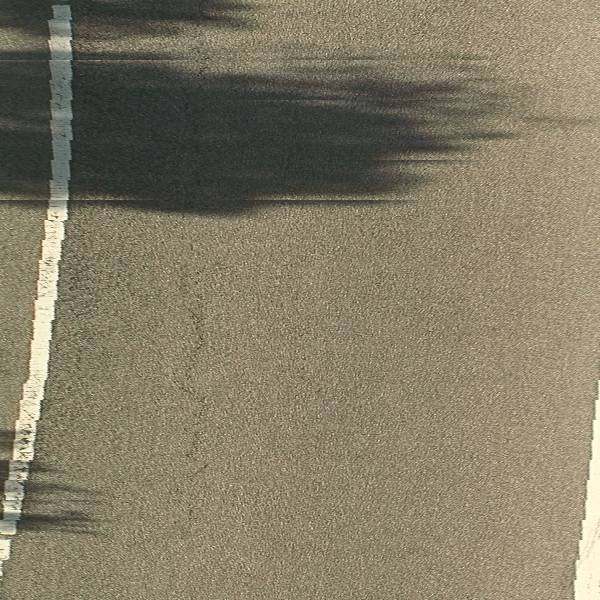road_damage: (170, 252, 219, 540), (174, 54, 229, 216)
